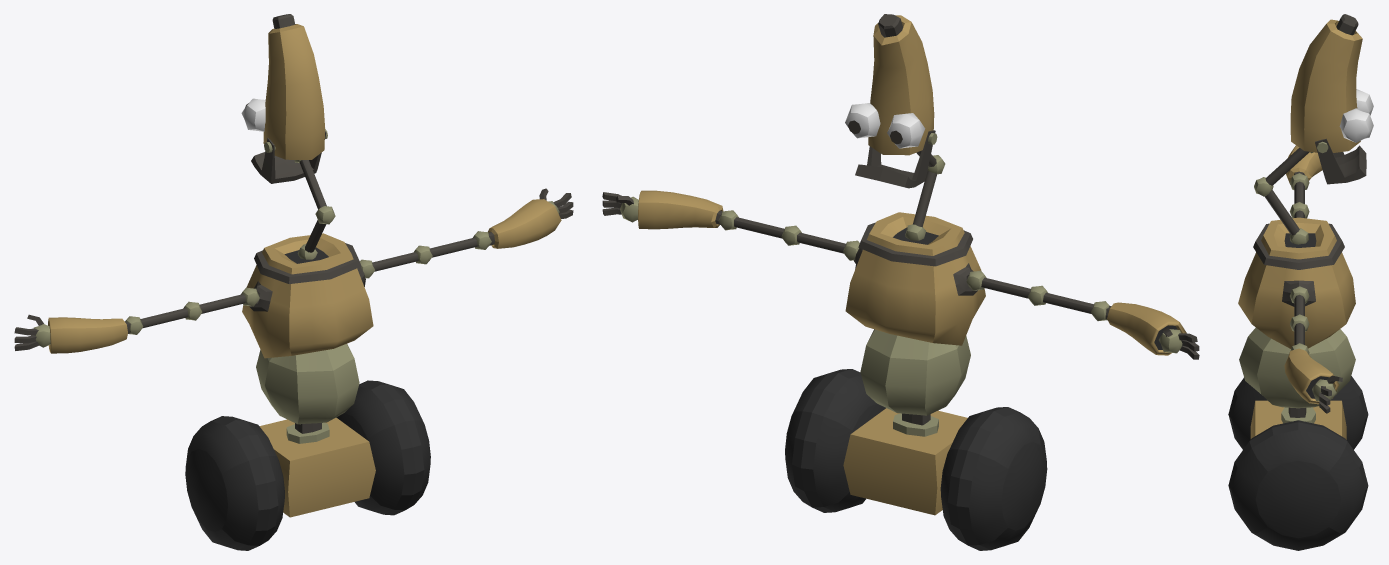
The model's file is robot1.fbx.
3 renders of one model, left to right at view 1: azimuth 30°, elevation 25°; view 2: azimuth 150°, elevation 25°; view 3: azimuth 270°, elevation 25°, orthographic. The views are drawn at different scales.
Parts seen in each view (by area): view 1: body, pCube20, pCube21, pCube17, pCube1, pCube2 (×2), group1_pCube5; view 2: body, pCube20, pCube17, pCube21, pCube1, pCube2 (×2), pCube6 (×2), group1_pCube5; view 3: body, pCube21, pCube1, pCube20, pCube2 (×2), pCube17, pCube9 (×5), group1_pCube5, pCube6 (×2), pCube8 (×5), pCube13, pCube11.
Part boxes in pixels (left/top/right/bottom): body: left=242, top=233, right=373, bottom=433; pCube20: left=185, top=416, right=284, bottom=550; pCube21: left=336, top=380, right=430, bottom=515; pCube17: left=259, top=417, right=375, bottom=517; pCube1: left=263, top=14, right=324, bottom=159; pCube2 (×2): left=48, top=199, right=561, bottom=353; group1_pCube5: left=251, top=128, right=327, bottom=183; body: left=845, top=212, right=985, bottom=425; pCube20: left=940, top=407, right=1047, bottom=550; pCube17: left=843, top=408, right=967, bottom=515; pCube21: left=785, top=369, right=885, bottom=512; pCube1: left=868, top=14, right=934, bottom=155; pCube2 (×2): left=638, top=190, right=1186, bottom=355; pCube6 (×2): left=845, top=103, right=925, bottom=148; group1_pCube5: left=855, top=130, right=937, bottom=188; body: left=1238, top=217, right=1355, bottom=417; pCube21: left=1228, top=420, right=1368, bottom=550; pCube1: left=1290, top=14, right=1362, bottom=152; pCube20: left=1228, top=376, right=1368, bottom=449; pCube2 (×2): left=1284, top=145, right=1339, bottom=404; pCube17: left=1250, top=400, right=1346, bottom=439; pCube9 (×5): left=1264, top=148, right=1309, bottom=345; group1_pCube5: left=1315, top=138, right=1366, bottom=184; pCube6 (×2): left=1339, top=89, right=1373, bottom=142; pCube8 (×5): left=1254, top=177, right=1309, bottom=331; pCube13: left=1312, top=379, right=1336, bottom=401; pCube11: left=1290, top=173, right=1309, bottom=189.
Bounding box in the file's own units: 23.36 × 19.85 × 5.29.
